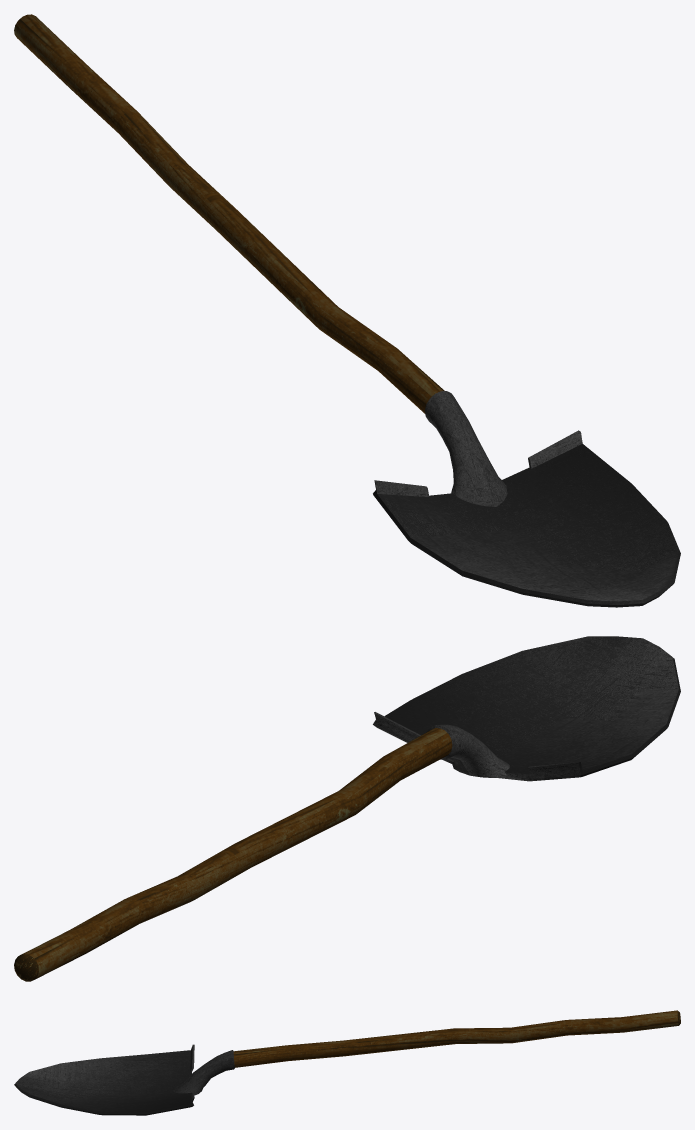
The model's file is SM_Shovel.fbx.
The picture shows the model from 3 angles, top to bottom: view 1: azimuth 30°, elevation 25°; view 2: azimuth 150°, elevation 25°; view 3: azimuth 270°, elevation 25°; orthographic projection. The views are drawn at different scales.
Visible parts, largest first — view 1: Cylinder.078; view 2: Cylinder.078; view 3: Cylinder.078.
Boxes of the visible parts, x1,y1,x2,y2 form: Cylinder.078: (14,14,680,607); Cylinder.078: (14,636,680,981); Cylinder.078: (14,1010,680,1115).
Bounding box in the file's own units: 160 × 110 × 761.
